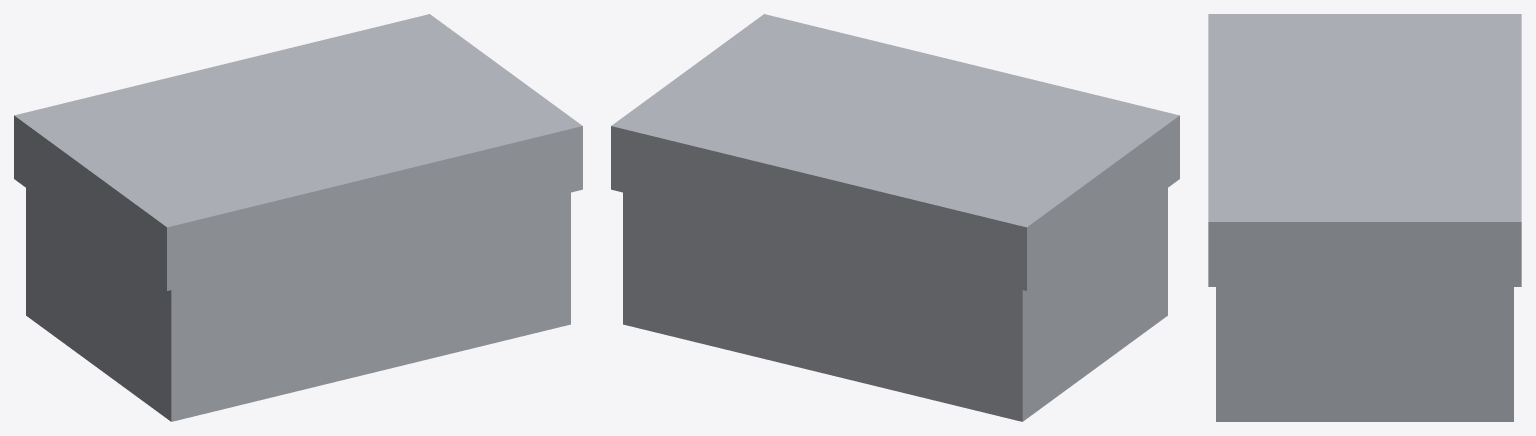
File: SM_Prop_ShoeBox_01.fbx
The picture shows the model from 3 angles, left to right: view 1: azimuth 30°, elevation 25°; view 2: azimuth 150°, elevation 25°; view 3: azimuth 270°, elevation 25°; orthographic projection. The views are drawn at different scales.
Visible parts, largest first — view 1: SM_Prop_ShoeBox_01; view 2: SM_Prop_ShoeBox_01; view 3: SM_Prop_ShoeBox_01.
Boxes of the visible parts, x1=… form: SM_Prop_ShoeBox_01: x1=14, y1=14, x2=582, y2=421; SM_Prop_ShoeBox_01: x1=611, y1=14, x2=1179, y2=421; SM_Prop_ShoeBox_01: x1=1208, y1=14, x2=1521, y2=421.
Bounding box in the file's own units: 28.93 × 13.25 × 18.45.
